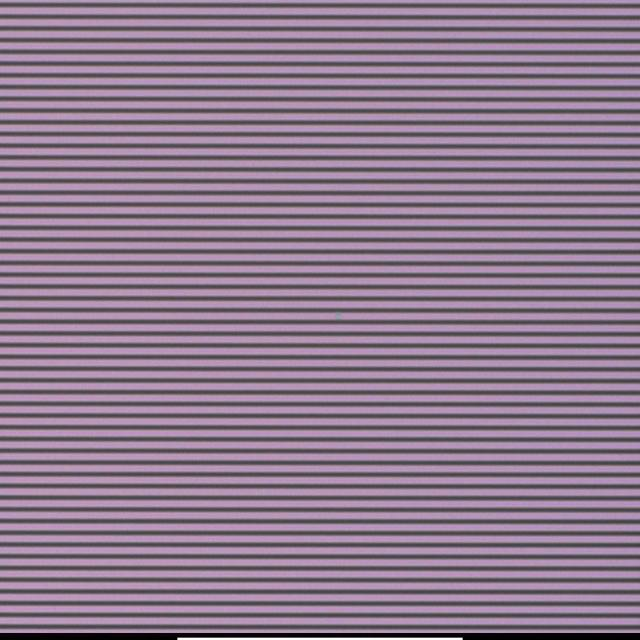nonvisual: (332, 308, 342, 322)
